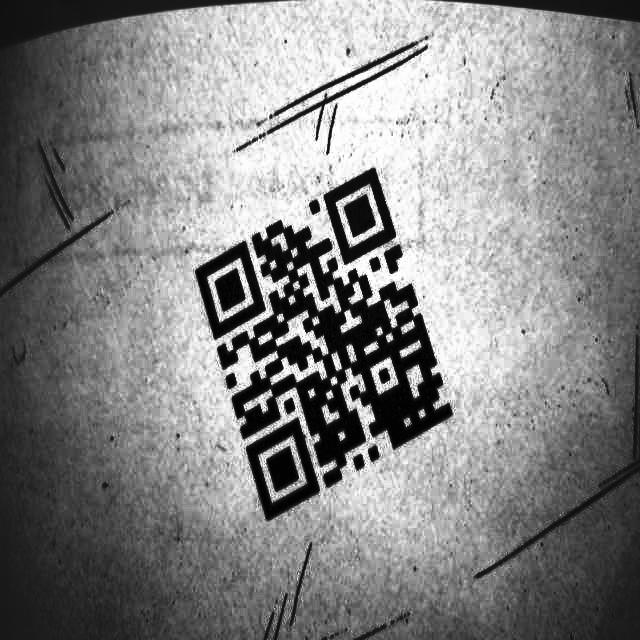qr_code: (196, 169, 452, 520)
